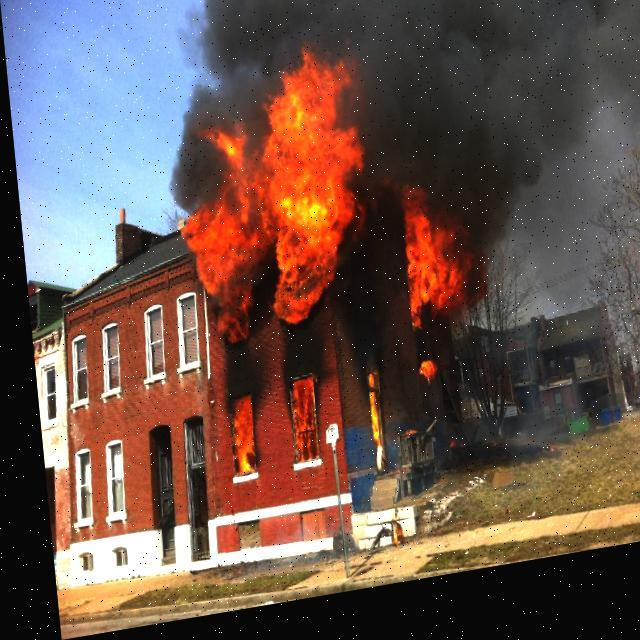Fire: (168, 51, 380, 352), (388, 184, 486, 345), (276, 385, 310, 472), (219, 403, 247, 482), (357, 380, 378, 483), (410, 369, 430, 396)
